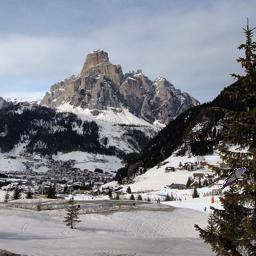Crow: (183, 107, 219, 141)
Cuckoo: (216, 167, 249, 195)
